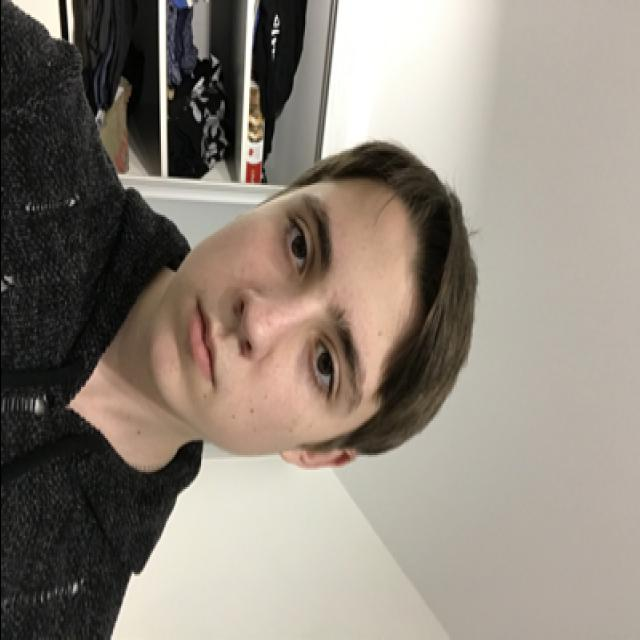without_mask: (147, 187, 371, 455)
